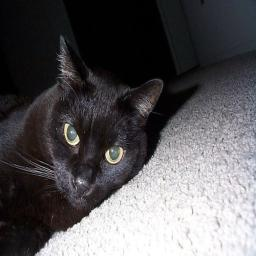catnose: (71, 162, 93, 198)
